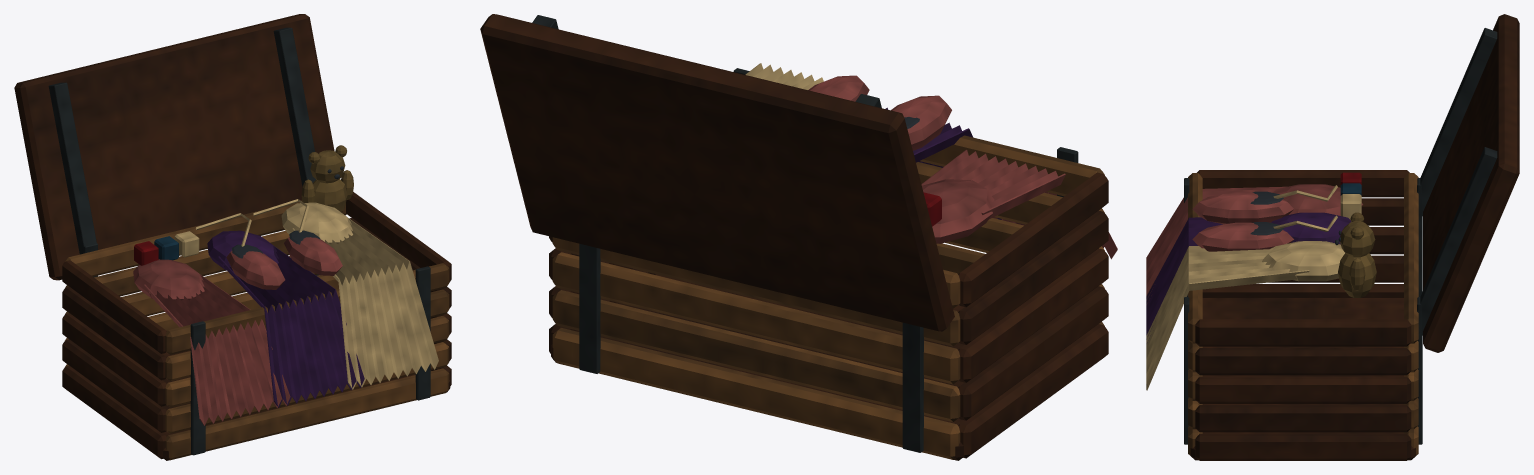
The model's file is lili_memory_chest.glb.
The picture shows the model from 3 angles, left to right: view 1: azimuth 30°, elevation 25°; view 2: azimuth 150°, elevation 25°; view 3: azimuth 270°, elevation 25°; orthographic projection. The views are drawn at different scales.
Visible parts, largest first — view 1: lili_memory_chest; view 2: lili_memory_chest; view 3: lili_memory_chest.
Part boxes in pixels (x1,y1,x2,y2): lili_memory_chest: (14,14,451,460); lili_memory_chest: (480,14,1117,460); lili_memory_chest: (1146,14,1519,460).
Size of the model in its own units: 1.23 by 1.09 by 1.25.
10 materials, 9 textured.
